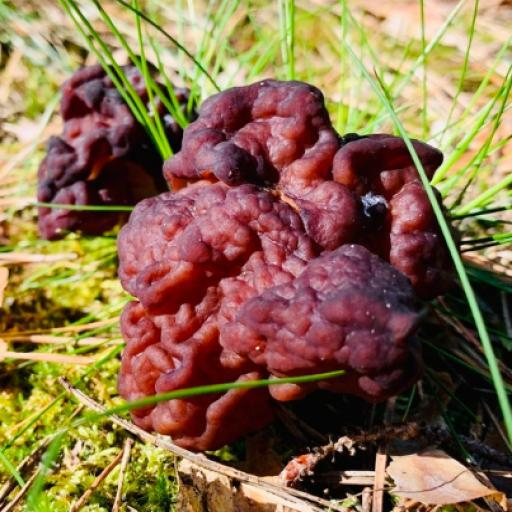mushroom: (115, 77, 461, 444)
